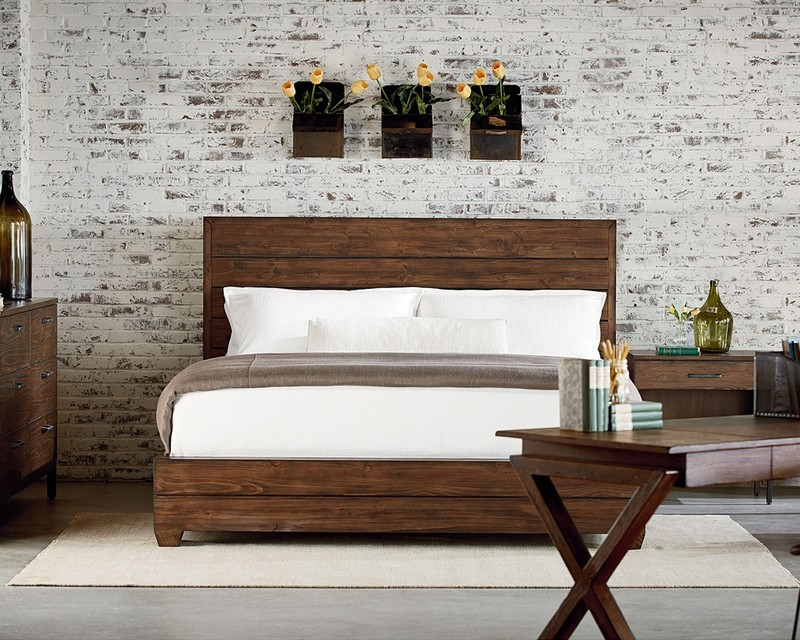bed: (160, 210, 641, 546)
stool: (627, 344, 781, 433)
table: (491, 417, 800, 636)
